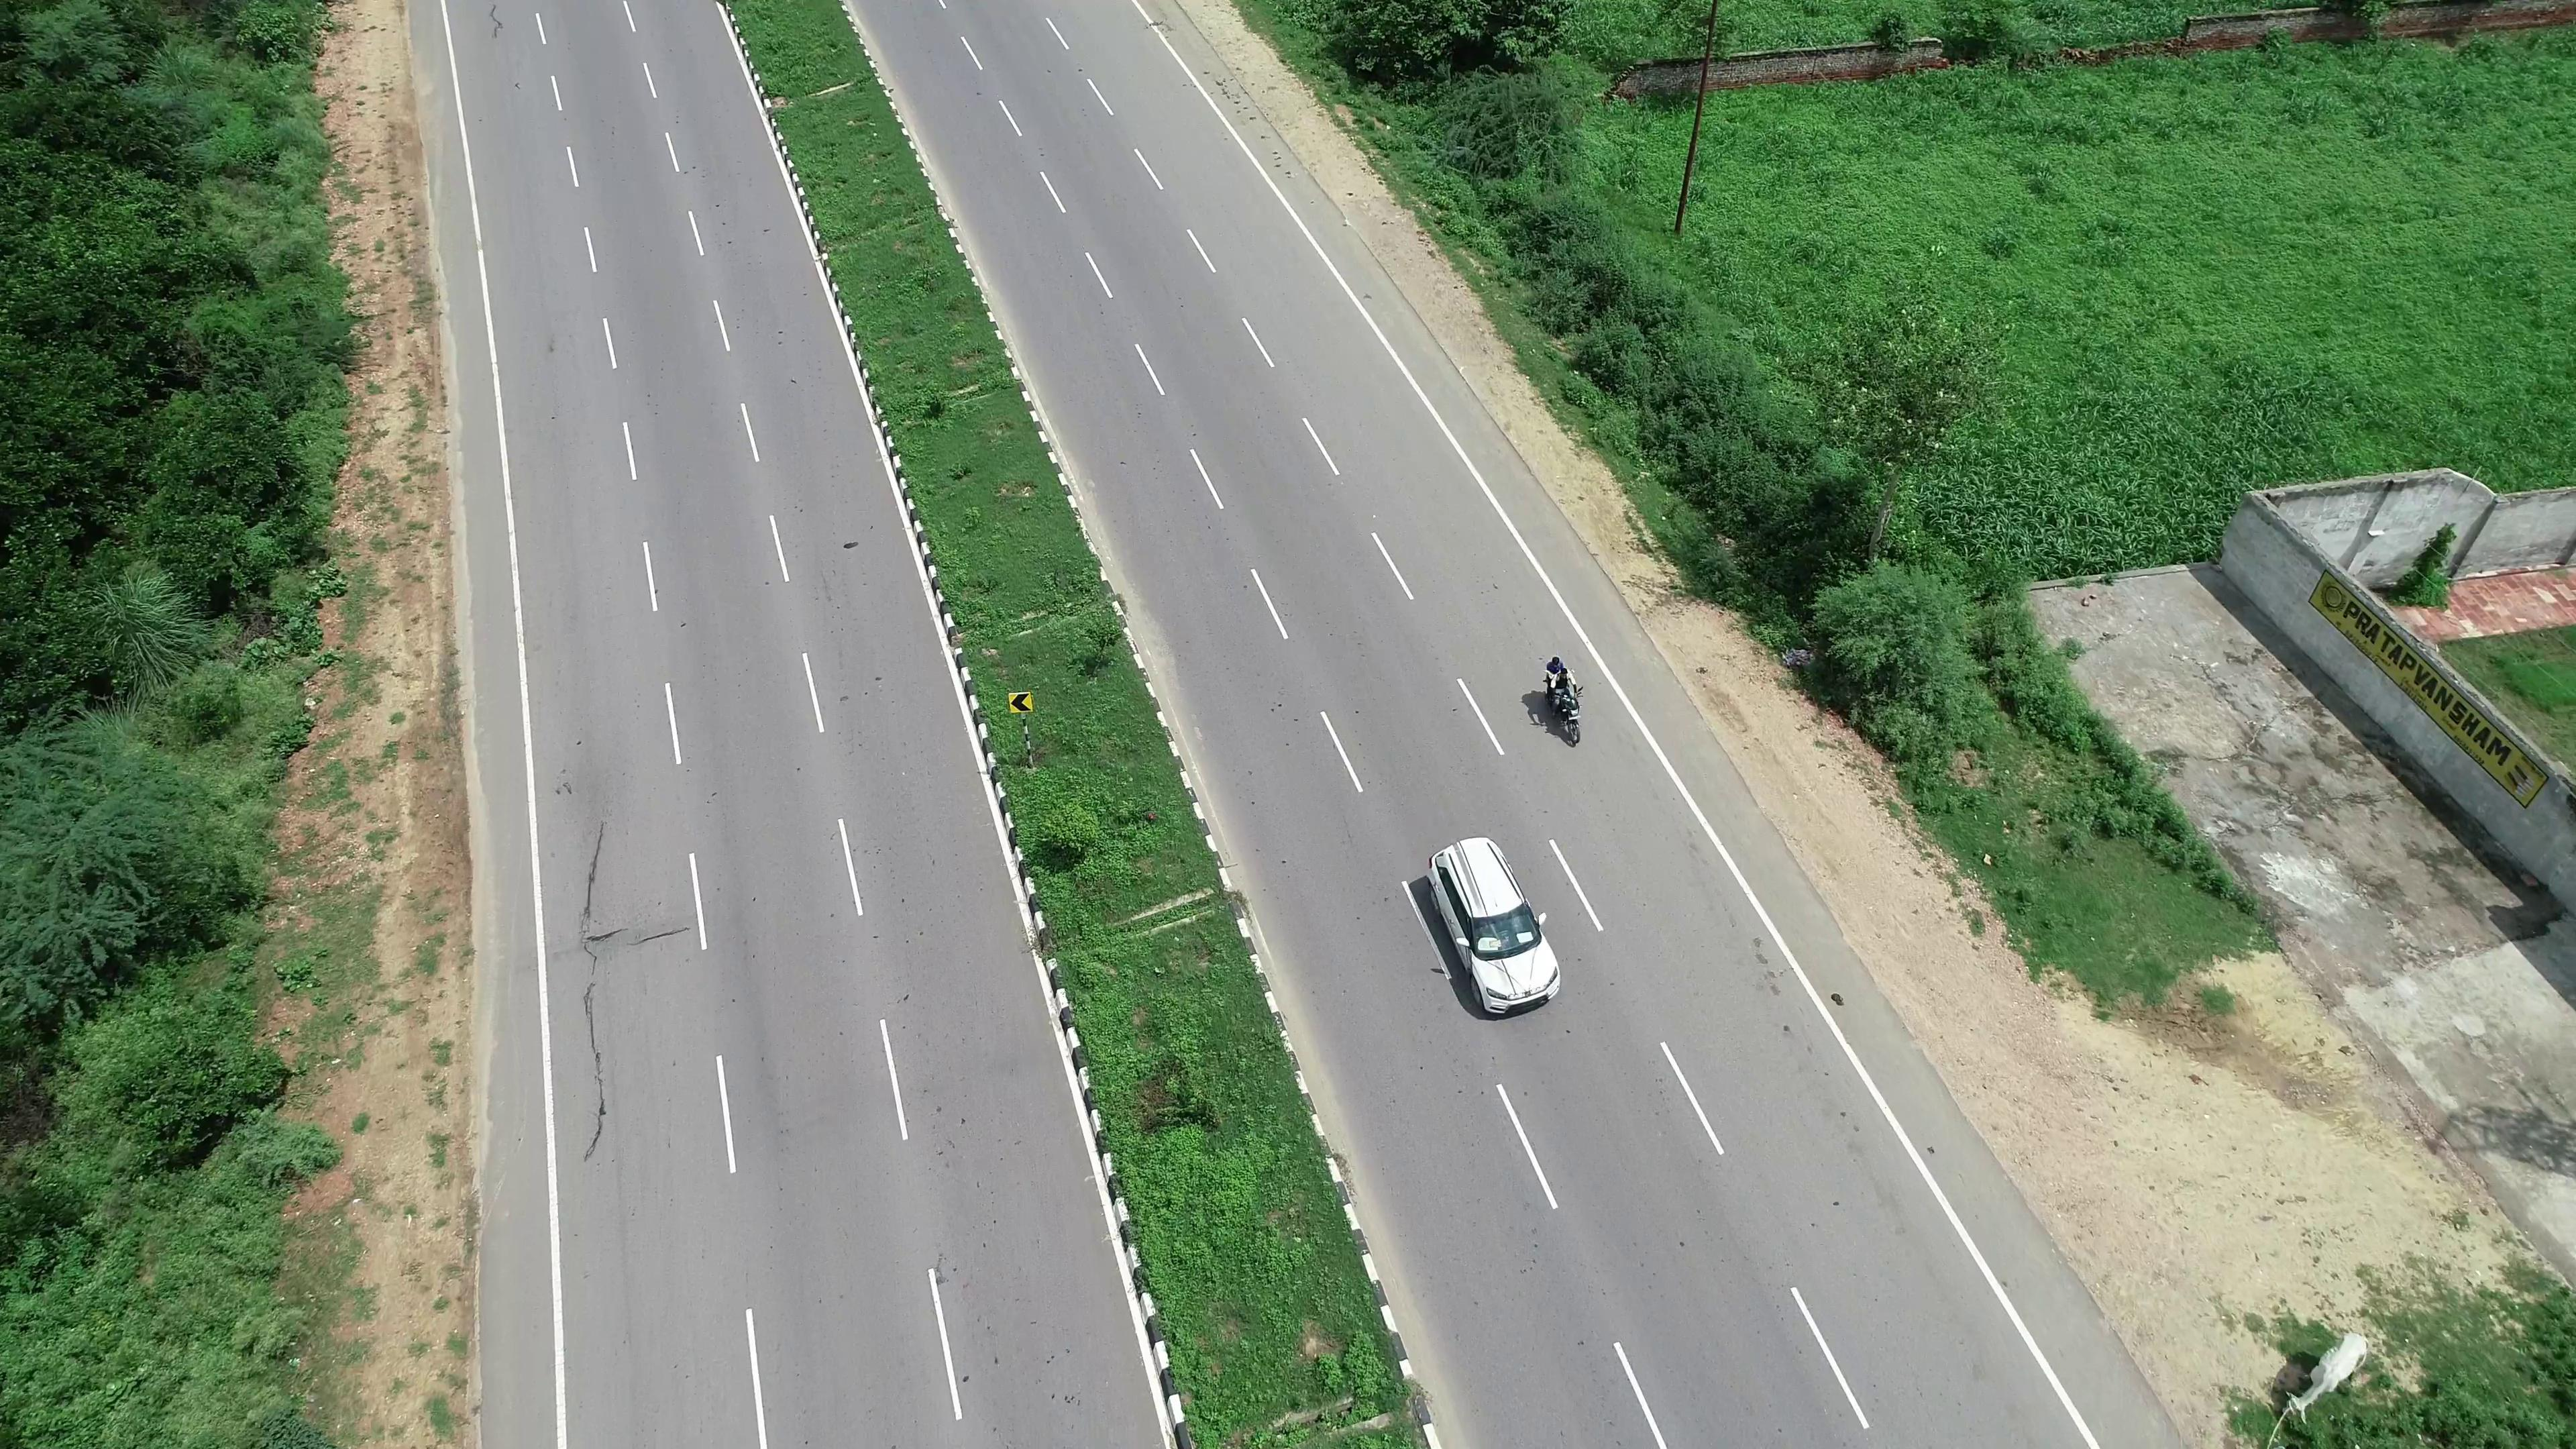Longitudinal_cracks: (575, 819, 648, 1169)
